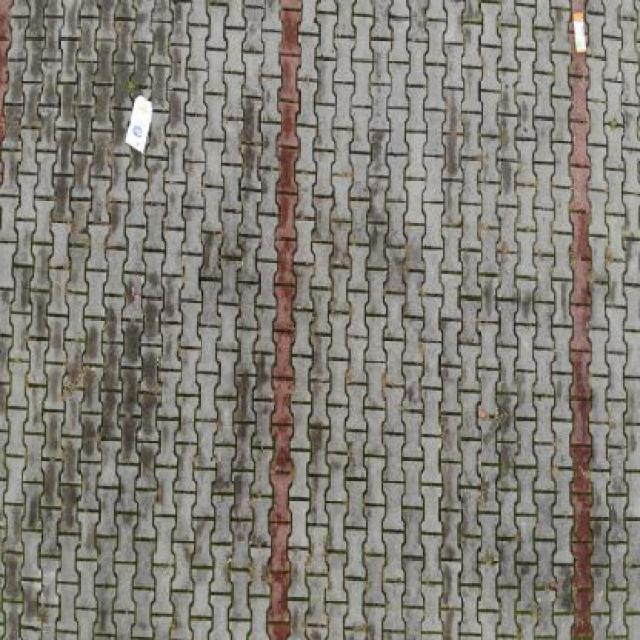Garbage: (124, 94, 154, 155), (572, 12, 586, 53)
